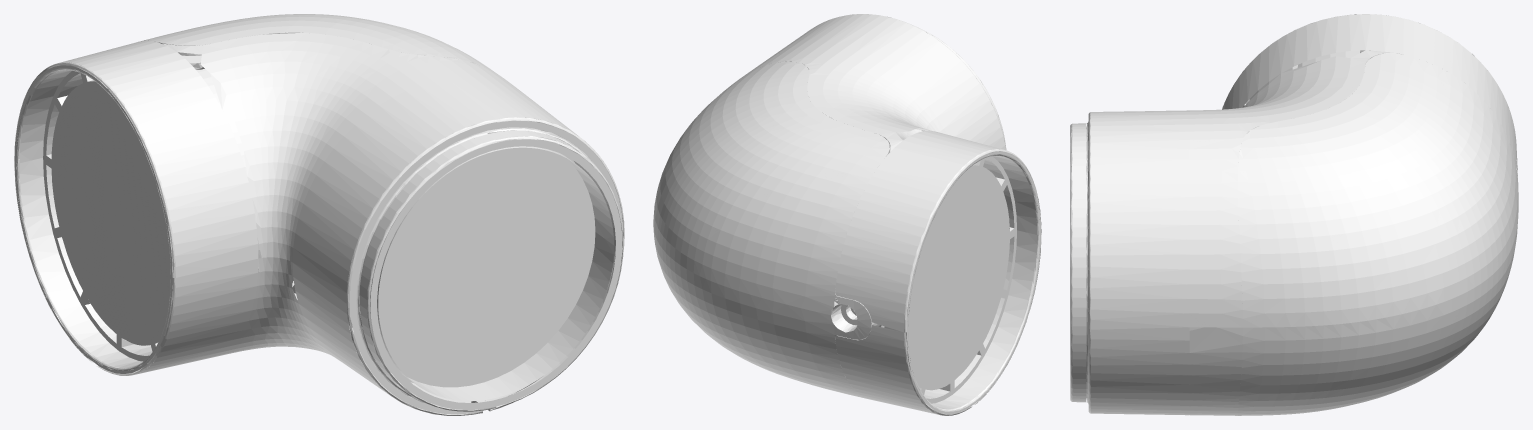
The model's file is joint5.dae.
The picture shows the model from 3 angles, left to right: view 1: azimuth 30°, elevation 25°; view 2: azimuth 150°, elevation 25°; view 3: azimuth 270°, elevation 25°; orthographic projection. The views are drawn at different scales.
Visible parts, largest first — view 1: node; view 2: node; view 3: node.
Boxes of the visible parts, x1,y1,x2,y2 form: node: [14, 14, 624, 415]; node: [653, 14, 1041, 415]; node: [1070, 14, 1518, 415].
Bounding box in the file's own units: 52.8 × 38.59 × 56.35.
1 material, 1 textured.
